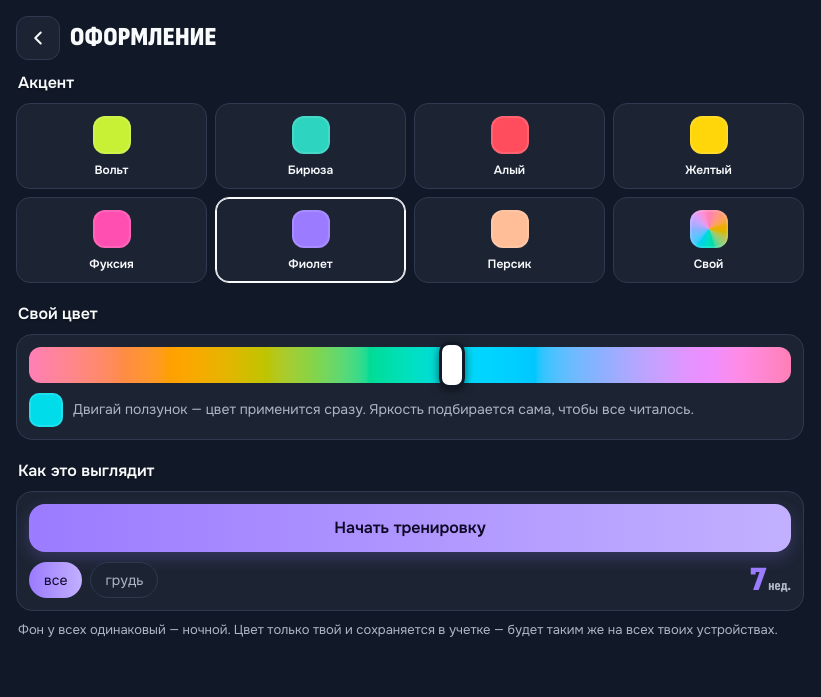
Test case: AppearanceScreen › ползунок включает «свой оттенок», в красной зоне — предупреждение
Set the slider named "Оттенок своего цвета" to "150". click: (349, 365)
box: [29,347,791,383]
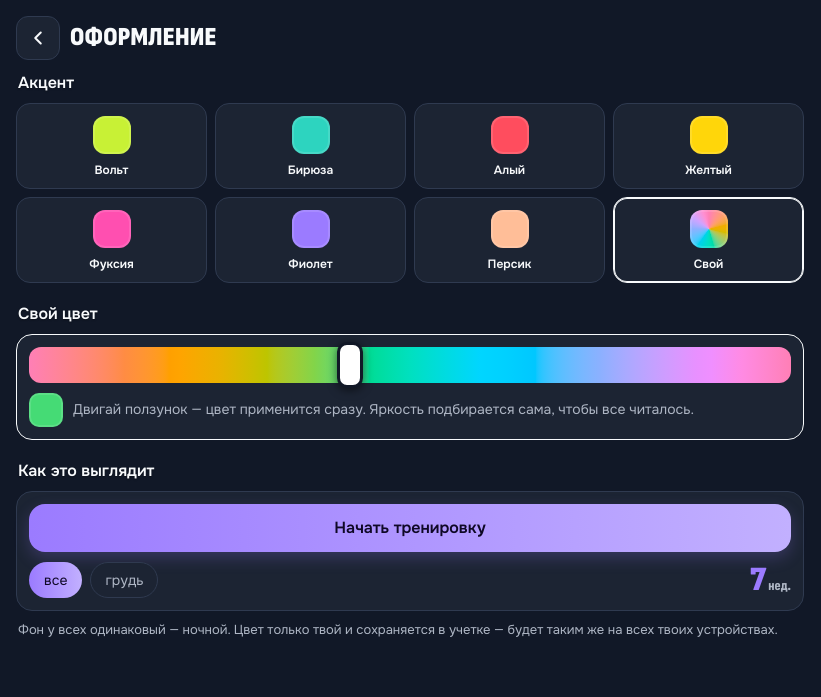
Set the slider named "Оттенок своего цвета" to "10". click: (58, 365)
box: [29,347,791,383]
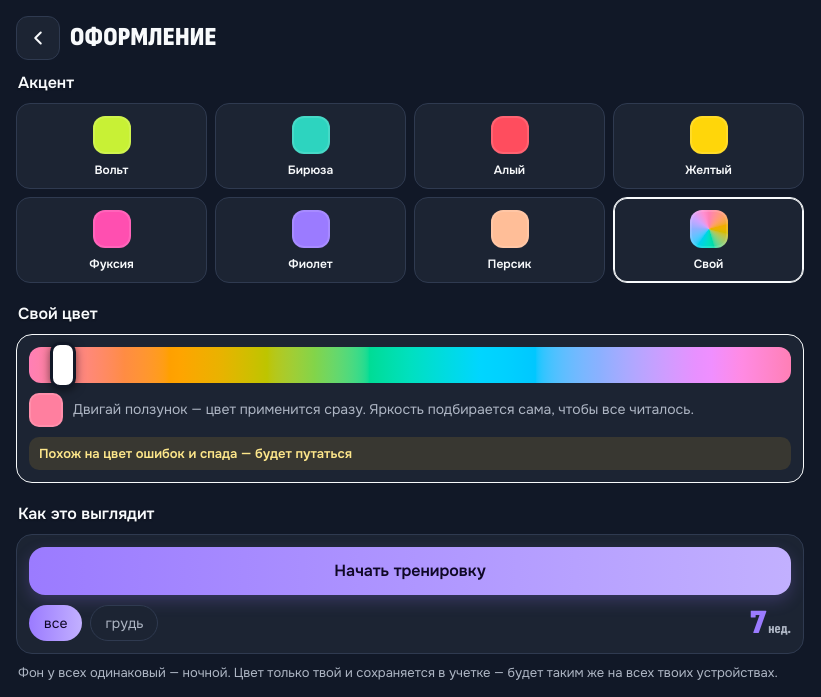
Expected: the message shows "Похож на цвет ошибок", [39,445,352,462]
